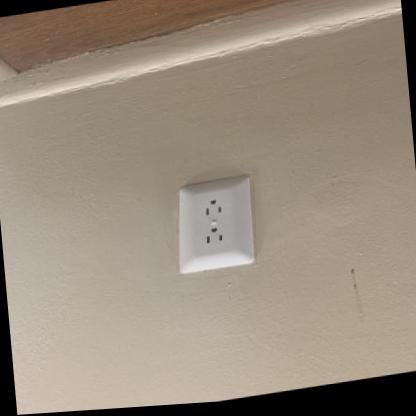OUTLET: (172, 173, 258, 276)
